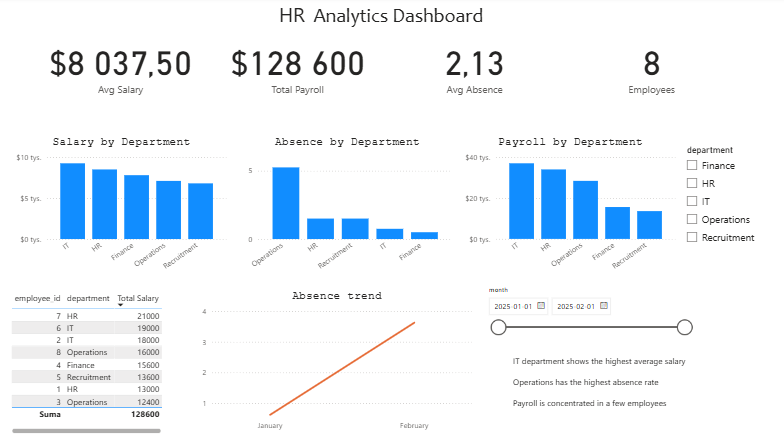

The page's visual inventory and layout, read from the dashboard file:
{"tool":"powerbi","page":{"name":"Strona 1","canvas":[1280,720],"ordinal":0},"visuals":[{"type":"card","fields":{"Values":["salaries.Avg Salary"]},"box":[16,16,288,128],"z":0},{"type":"card","fields":{"Values":["employees.Employees"]},"box":[880,16,288,128],"z":1000},{"type":"card","fields":{"Values":["attendance.Avg Absence"]},"box":[592,16,288,128],"z":2000},{"type":"card","fields":{"Values":["salaries.Total Payroll"]},"box":[304,16,288,128],"z":3000},{"type":"clusteredColumnChart","title":"Salary by Department","fields":{"Category":["employees.department"],"Y":["salaries.Avg Salary"]},"box":[16,224,352,240],"z":4000},{"type":"clusteredColumnChart","title":"Absence by Department","fields":{"Category":["employees.department"],"Y":["attendance.Avg Absence"]},"box":[384,224,352,240],"z":5000},{"type":"clusteredColumnChart","title":"Payroll by Department","fields":{"Category":["employees.department"],"Y":["salaries.Total Payroll"]},"box":[736,224,352,240],"z":6000},{"type":"tableEx","fields":{"Values":["salaries.employee_id","employees.department","salaries.Total Employee Salary"]},"box":[16,474,352,240],"z":7000},{"type":"lineChart","title":"Absence trend","fields":{"Category":["attendance.month.Odmiana.Hierarchia dat.Miesiąc"],"Y":["attendance.Avg Absence"]},"box":[384,474,352,240],"z":8000},{"type":"slicer","fields":{"Values":["employees.department"]},"box":[1120,224,144,240],"z":9000},{"type":"slicer","fields":{"Values":["attendance.month"]},"box":[784,464,352,96],"z":10000},{"type":"textbox","box":[832,576,304,112],"z":11000}]}

Visuals, with their boxes in screenshot pixels (x1, y1, x2, y2), scaled from the page's 1280x720 canvas onto the 784x439 screenshot:
card - salaries.Avg Salary: [10,10,186,88]
card - employees.Employees: [539,10,715,88]
card - attendance.Avg Absence: [363,10,539,88]
card - salaries.Total Payroll: [186,10,363,88]
"Salary by Department" clusteredColumnChart: [10,137,225,283]
"Absence by Department" clusteredColumnChart: [235,137,451,283]
"Payroll by Department" clusteredColumnChart: [451,137,666,283]
tableEx - salaries.employee_id x employees.department: [10,289,225,435]
"Absence trend" lineChart: [235,289,451,435]
slicer - employees.department: [686,137,774,283]
slicer - attendance.month: [480,283,696,341]
textbox: [510,351,696,419]
